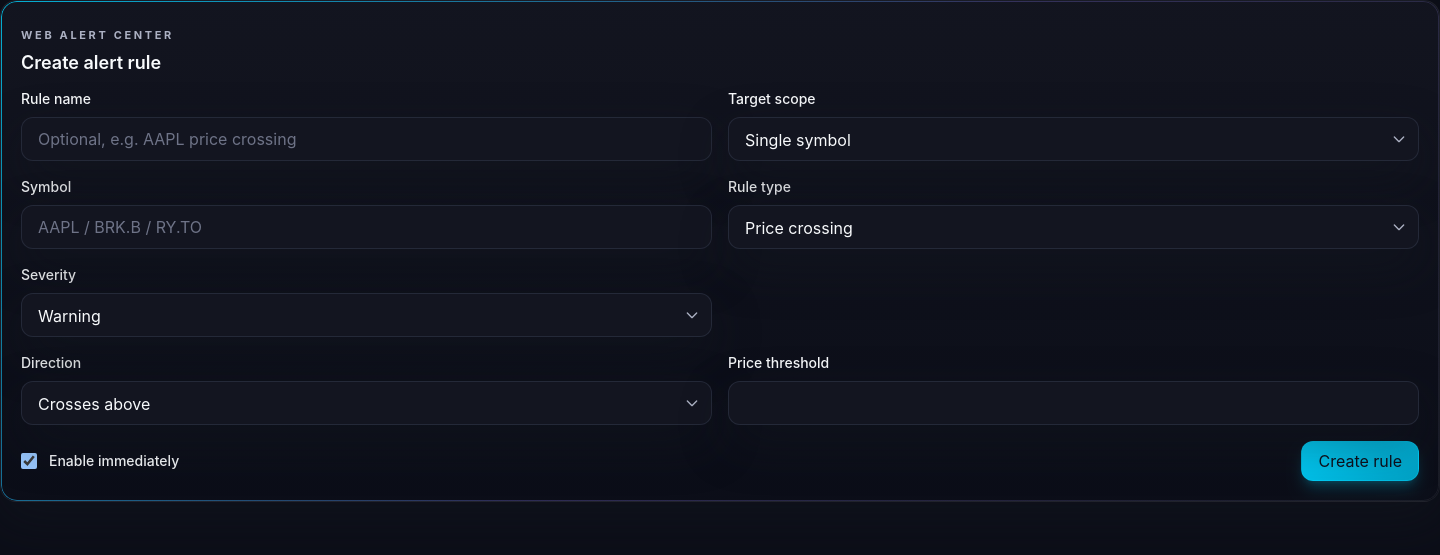
it: AlertRuleForm › rejects indicator period combinations that exceed fetchable history
This screenshot has width=1440, height=555.
In the field labelled "Symbol": [366, 227] box [21,205,712,249], type "AAPL"
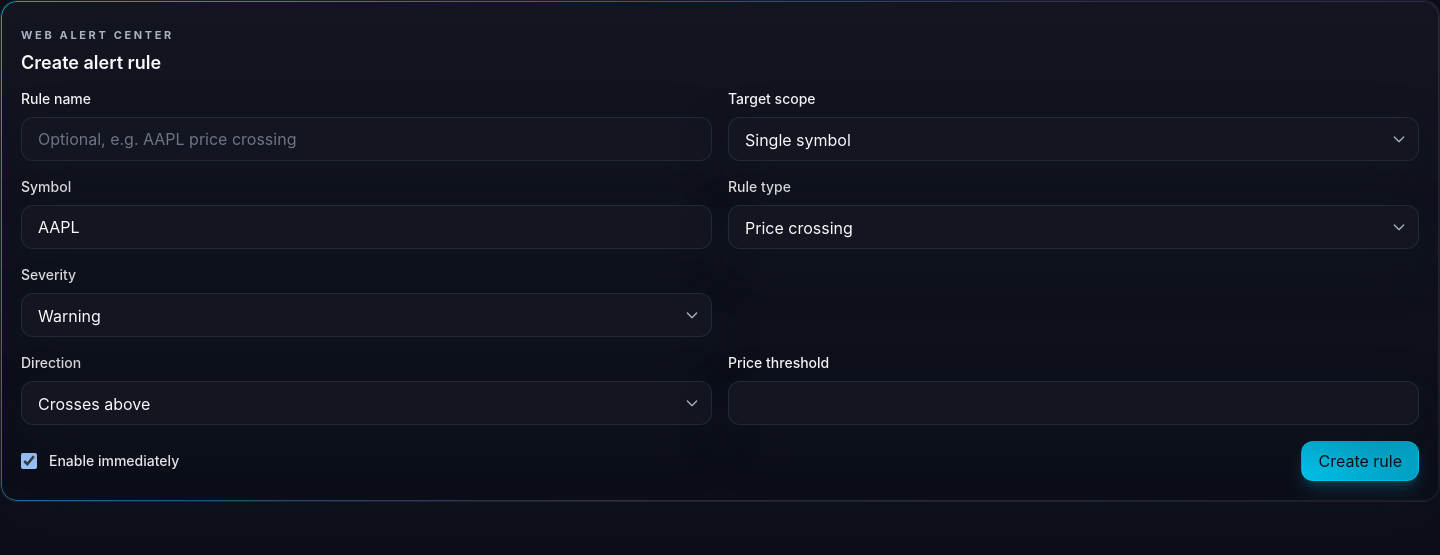
Select "MACD cross" in the dropdown labelled "Rule type": [1074, 227] box [728,205,1419,249]
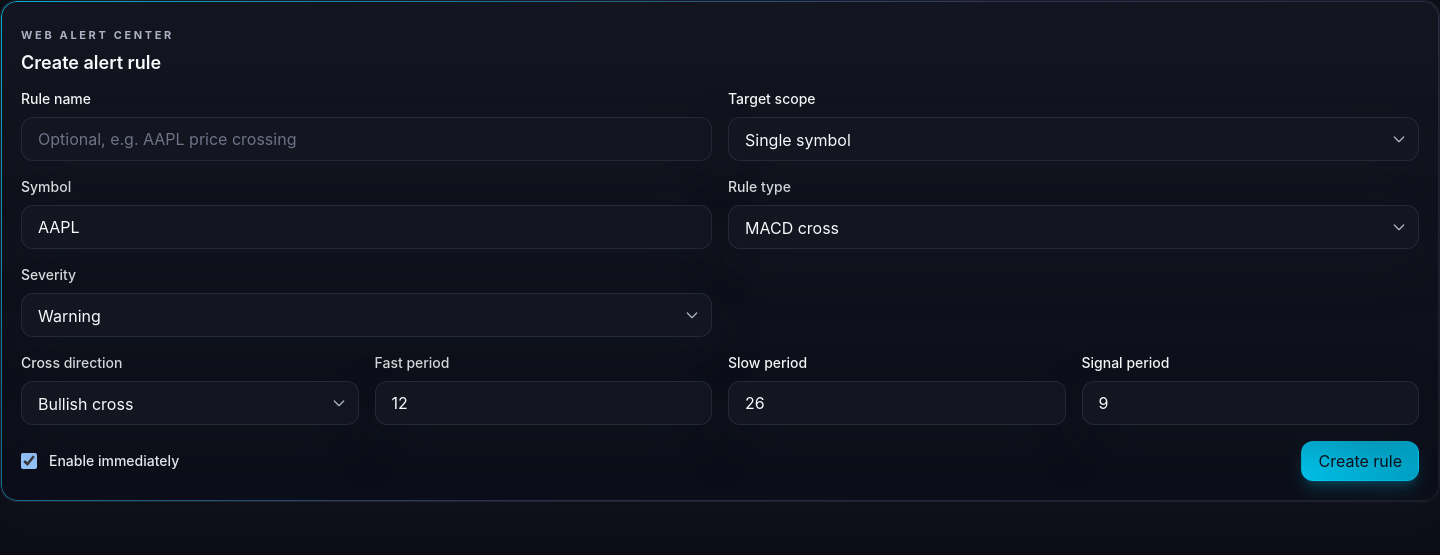
Replace the text in the number field labelled "Fast period" with "2": [543, 403] box [374,381,712,425]
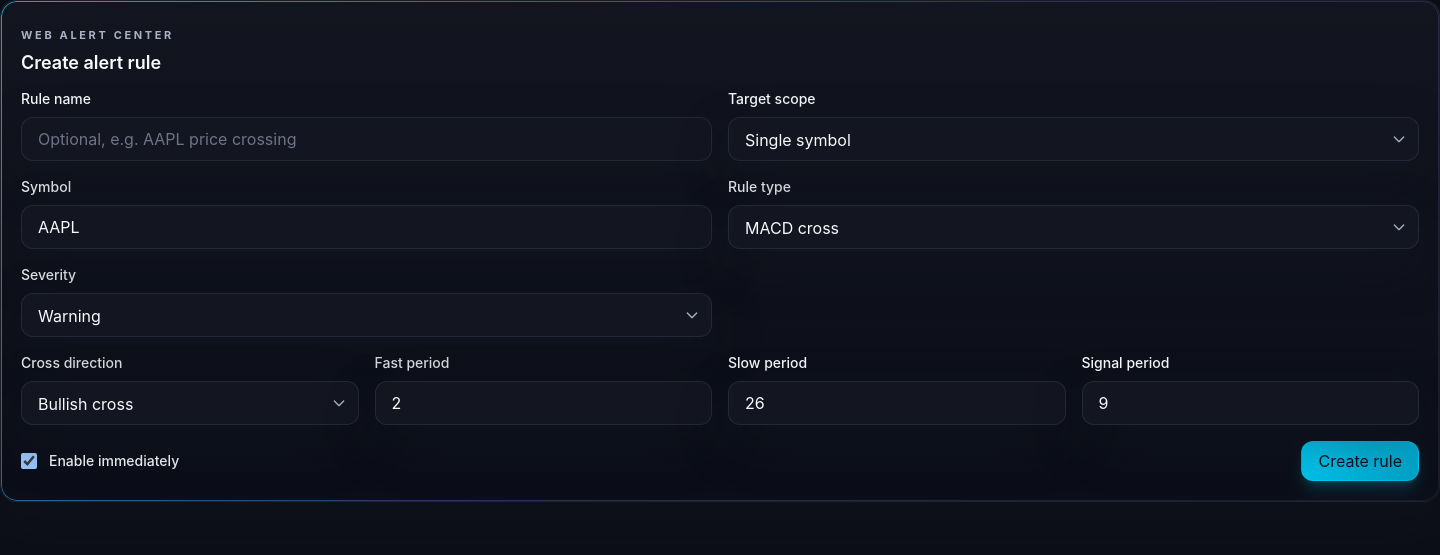
Replace the text in the number field labelled "Slow period" with "250": [897, 403] box [728,381,1066,425]
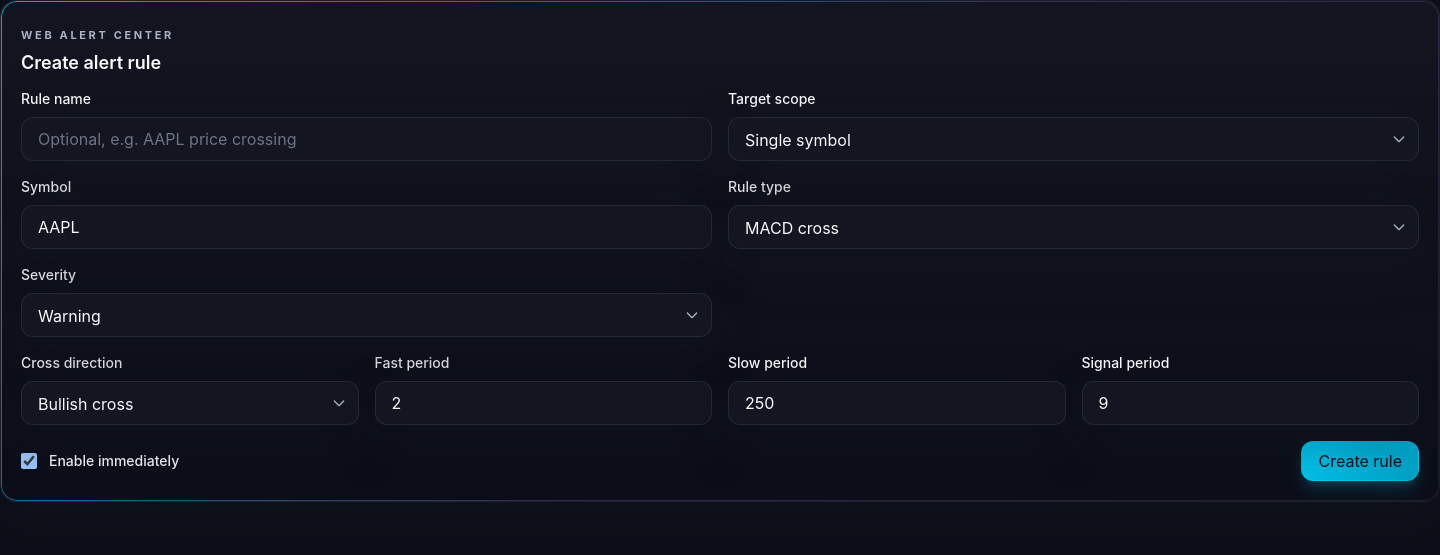
Replace the text in the number field labelled "Signal period" with "250": [1250, 403] box [1082,381,1419,425]
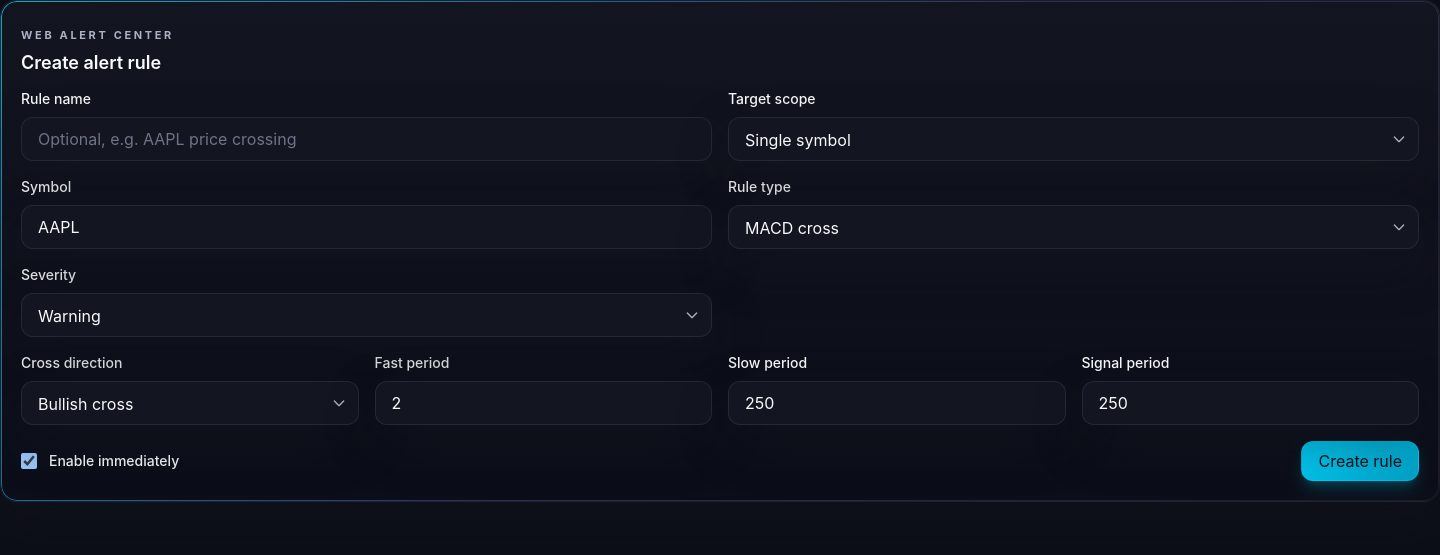
Click the button "Create rule": [1360, 461] box [1302,441,1419,481]
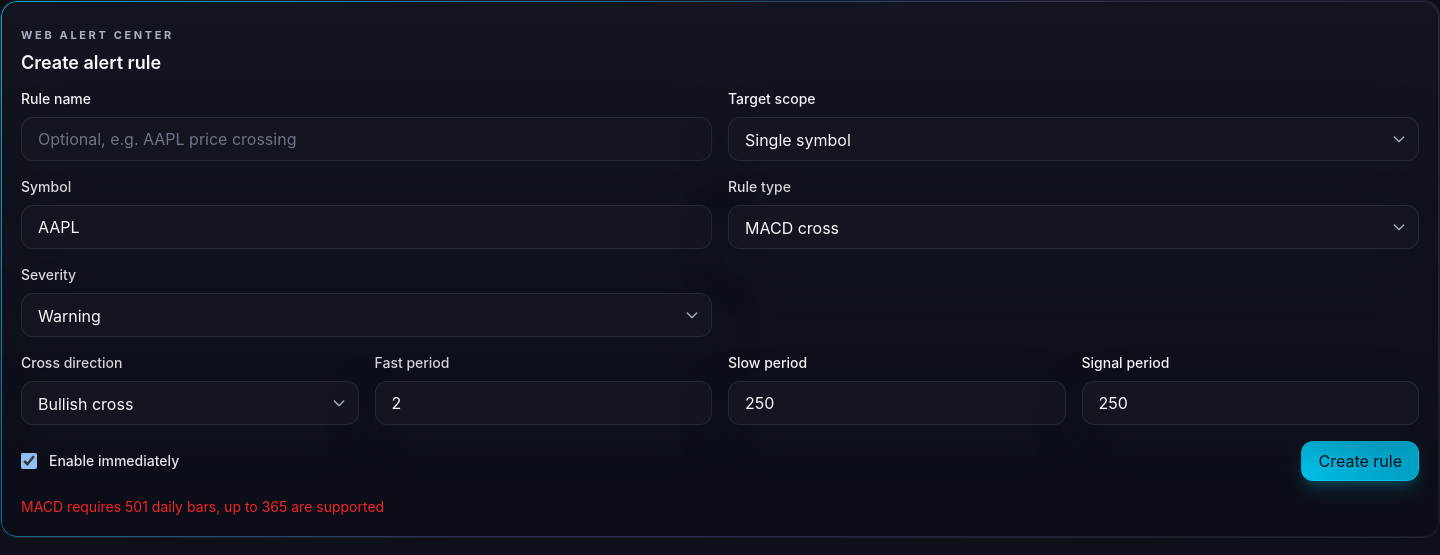
Now the message reads "MACD requires 501 daily bars, up to 365 are supported", box [21,498,384,515]
